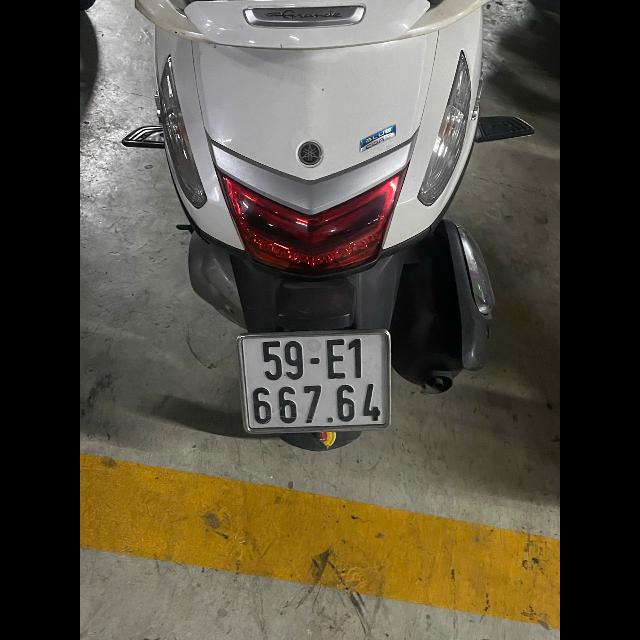BienSoXe: (235, 328, 391, 434)
